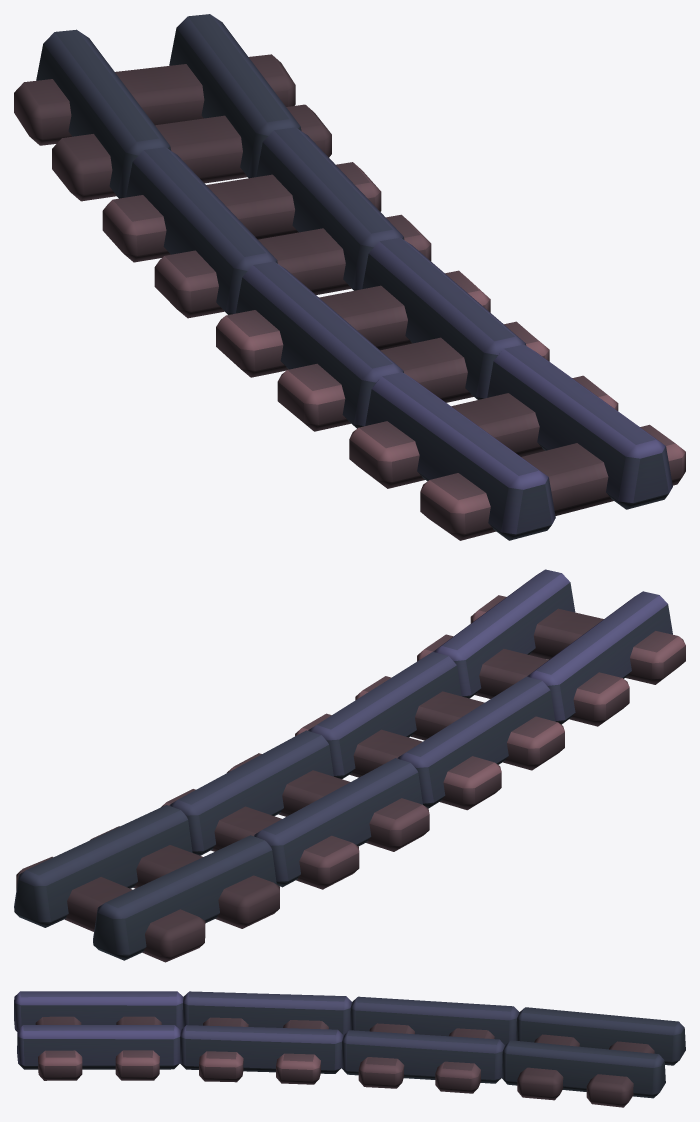
The model's file is undead_mine_rail.fbx.
3 renders of one model, top to bottom at view 1: azimuth 30°, elevation 25°; view 2: azimuth 150°, elevation 25°; view 3: azimuth 270°, elevation 25°, orthographic. The views are drawn at different scales.
Visible parts, largest first — view 1: undead_mine_rail; view 2: undead_mine_rail; view 3: undead_mine_rail.
Part boxes in pixels (x1,y1,x2,y2): undead_mine_rail: [14, 14, 685, 540]; undead_mine_rail: [14, 569, 685, 962]; undead_mine_rail: [14, 991, 685, 1107].
Size of the model in its own units: 2.22 by 0.4268 by 6.68.
